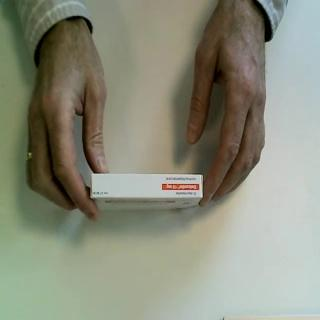dolcontin10mg: (90, 171, 205, 215)
